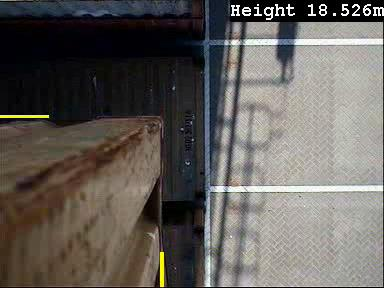groundmarker_2: (161, 137, 239, 191), (156, 207, 234, 261)
